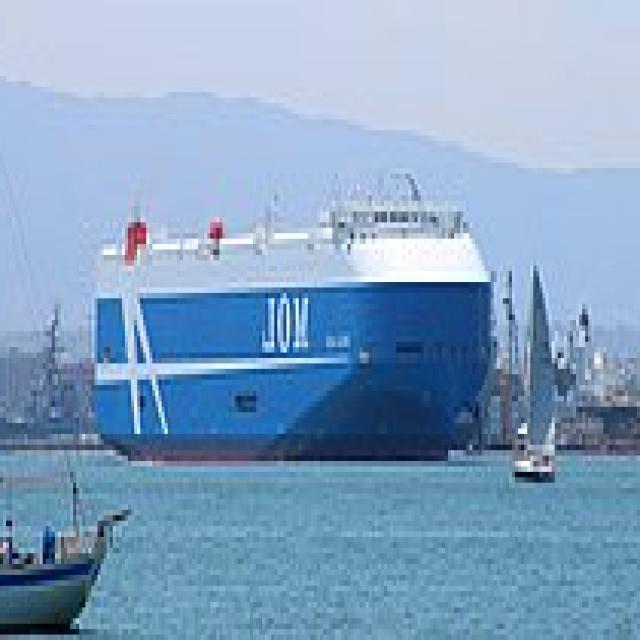Carrier: (94, 163, 500, 461)
